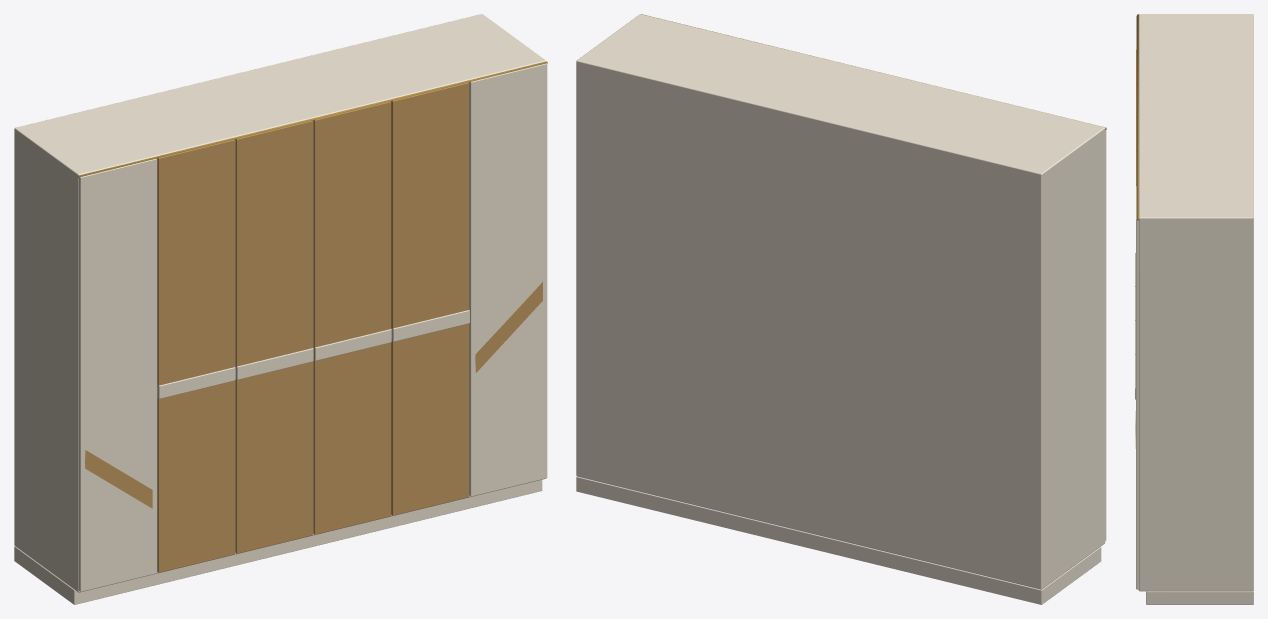
File: mustang-bed-set-with-wardrobe--wardrobe.glb
The picture shows the model from 3 angles, left to right: view 1: azimuth 30°, elevation 25°; view 2: azimuth 150°, elevation 25°; view 3: azimuth 270°, elevation 25°; orthographic projection. The views are drawn at different scales.
Parts seen in each view (by area): view 1: body, door3, door4, door5, door1, door2, door0, plinth, diag5, diag0, gtop, band4 (+3 smaller); view 2: body, plinth, door0; view 3: body, plinth, door5, gtop.
Boxes of the visible parts, left/top/right/bottom form: body: left=14, top=14, right=546, bottom=592; door3: left=313, top=101, right=391, bottom=534; door4: left=391, top=82, right=469, bottom=515; door5: left=469, top=63, right=547, bottom=496; door1: left=157, top=139, right=234, bottom=572; door2: left=235, top=120, right=312, bottom=553; door0: left=79, top=158, right=156, bottom=591; plinth: left=14, top=479, right=542, bottom=604; diag5: left=475, top=282, right=542, bottom=373; diag0: left=85, top=450, right=152, bottom=508; gtop: left=78, top=61, right=547, bottom=177; band4: left=391, top=310, right=469, bottom=341; body: left=576, top=14, right=1105, bottom=589; plinth: left=576, top=476, right=1101, bottom=604; door0: left=1105, top=130, right=1106, bottom=540; body: left=1138, top=14, right=1253, bottom=591; plinth: left=1146, top=591, right=1253, bottom=604; door5: left=1136, top=186, right=1138, bottom=589; gtop: left=1137, top=14, right=1139, bottom=220.
Size of the model in its own units: 2.6 by 2.3 by 0.64.
